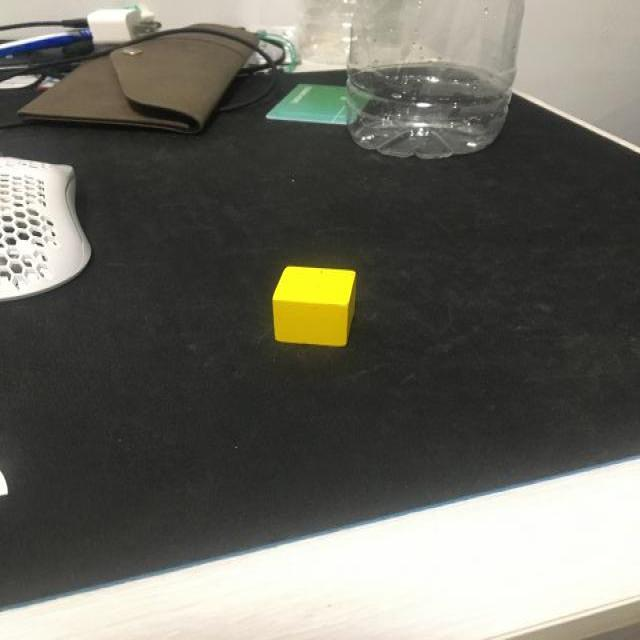yellow: (274, 266, 356, 346)
